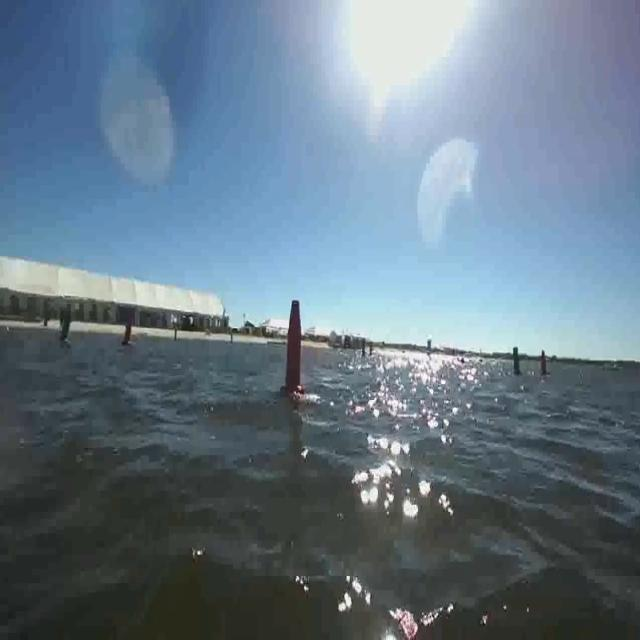green-column-buoy: (57, 305, 74, 344), (509, 346, 521, 376)
red-column-buoy: (281, 295, 305, 398), (120, 311, 136, 351), (538, 350, 548, 378)
